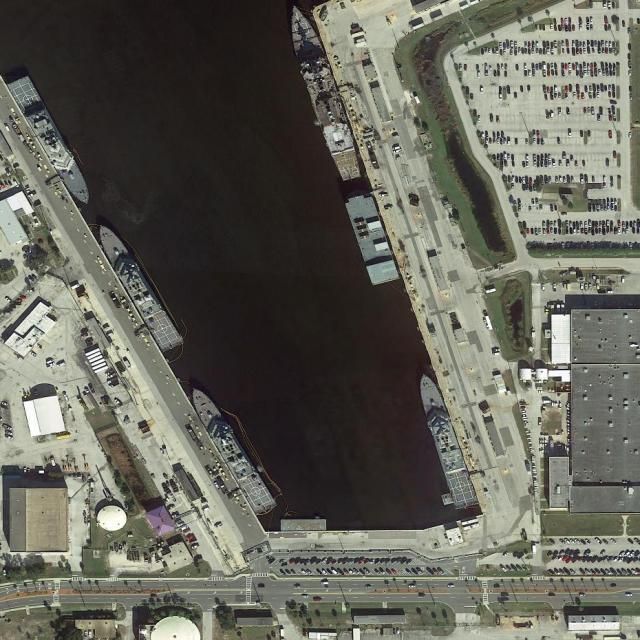Destroyer: (284, 2, 363, 182), (7, 74, 99, 209), (92, 217, 184, 352), (184, 381, 276, 515), (412, 369, 477, 511)
